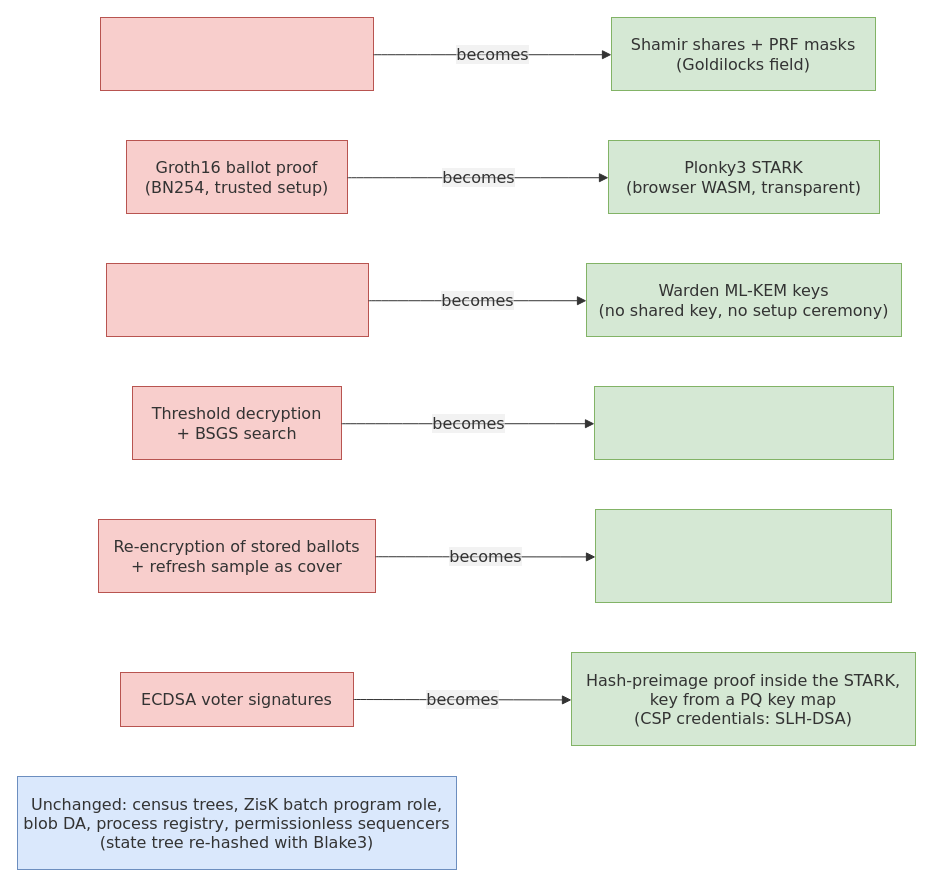
Image size: 933x887. Some labels were removed from this diagram. Here are the shapes that lost their labels. From the top down, the centre of each, then its label:
(x=237, y=53): ElGamal ballots (BabyJubjub, Shor-breakable)
(x=237, y=299): DKG / council key ceremony (shared BabyJubjub key)
(x=744, y=423): θ warden share sums + Lagrange (exact, no decryption)
(x=743, y=555): Hidden writes: a revote publishes nothing about its slot (no cover needed)
